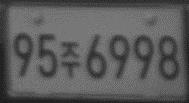5: (37, 32, 58, 77)
6: (85, 33, 107, 78)
8: (157, 34, 180, 80)
9: (131, 34, 155, 79), (108, 34, 131, 79), (13, 32, 34, 79)
주: (59, 40, 81, 78)
